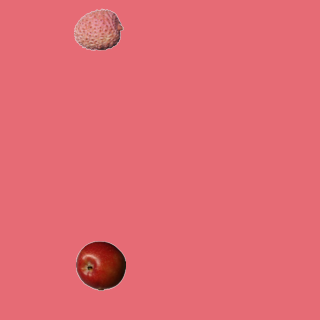Apple Braeburn: (75, 240, 125, 290)
Lychee: (73, 4, 123, 54)
